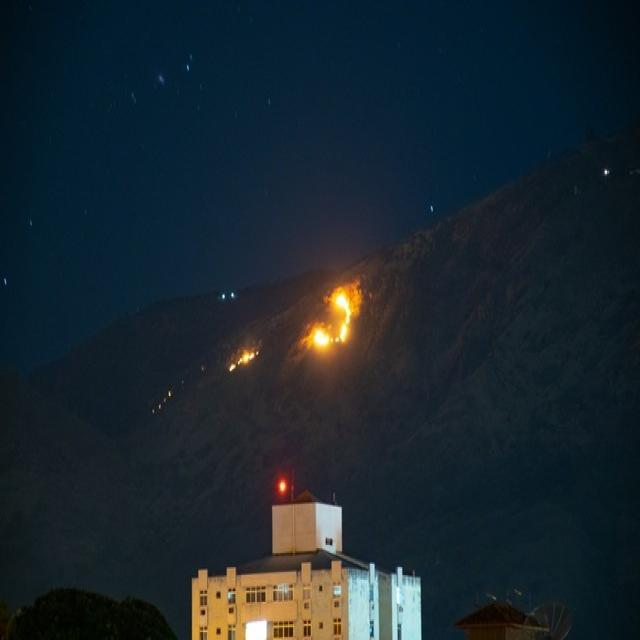Fire: (329, 279, 352, 325), (307, 322, 341, 348)
